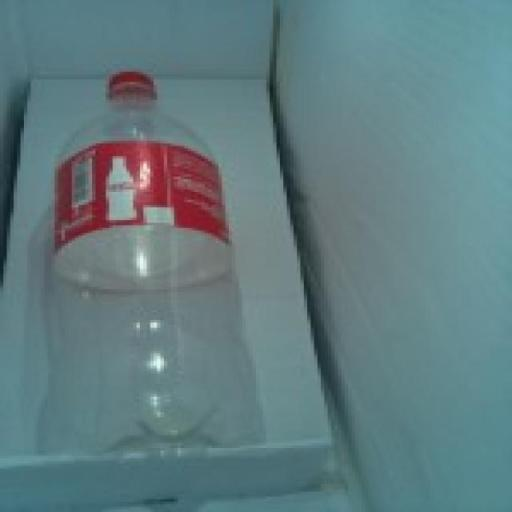plastic: (45, 66, 263, 456)
